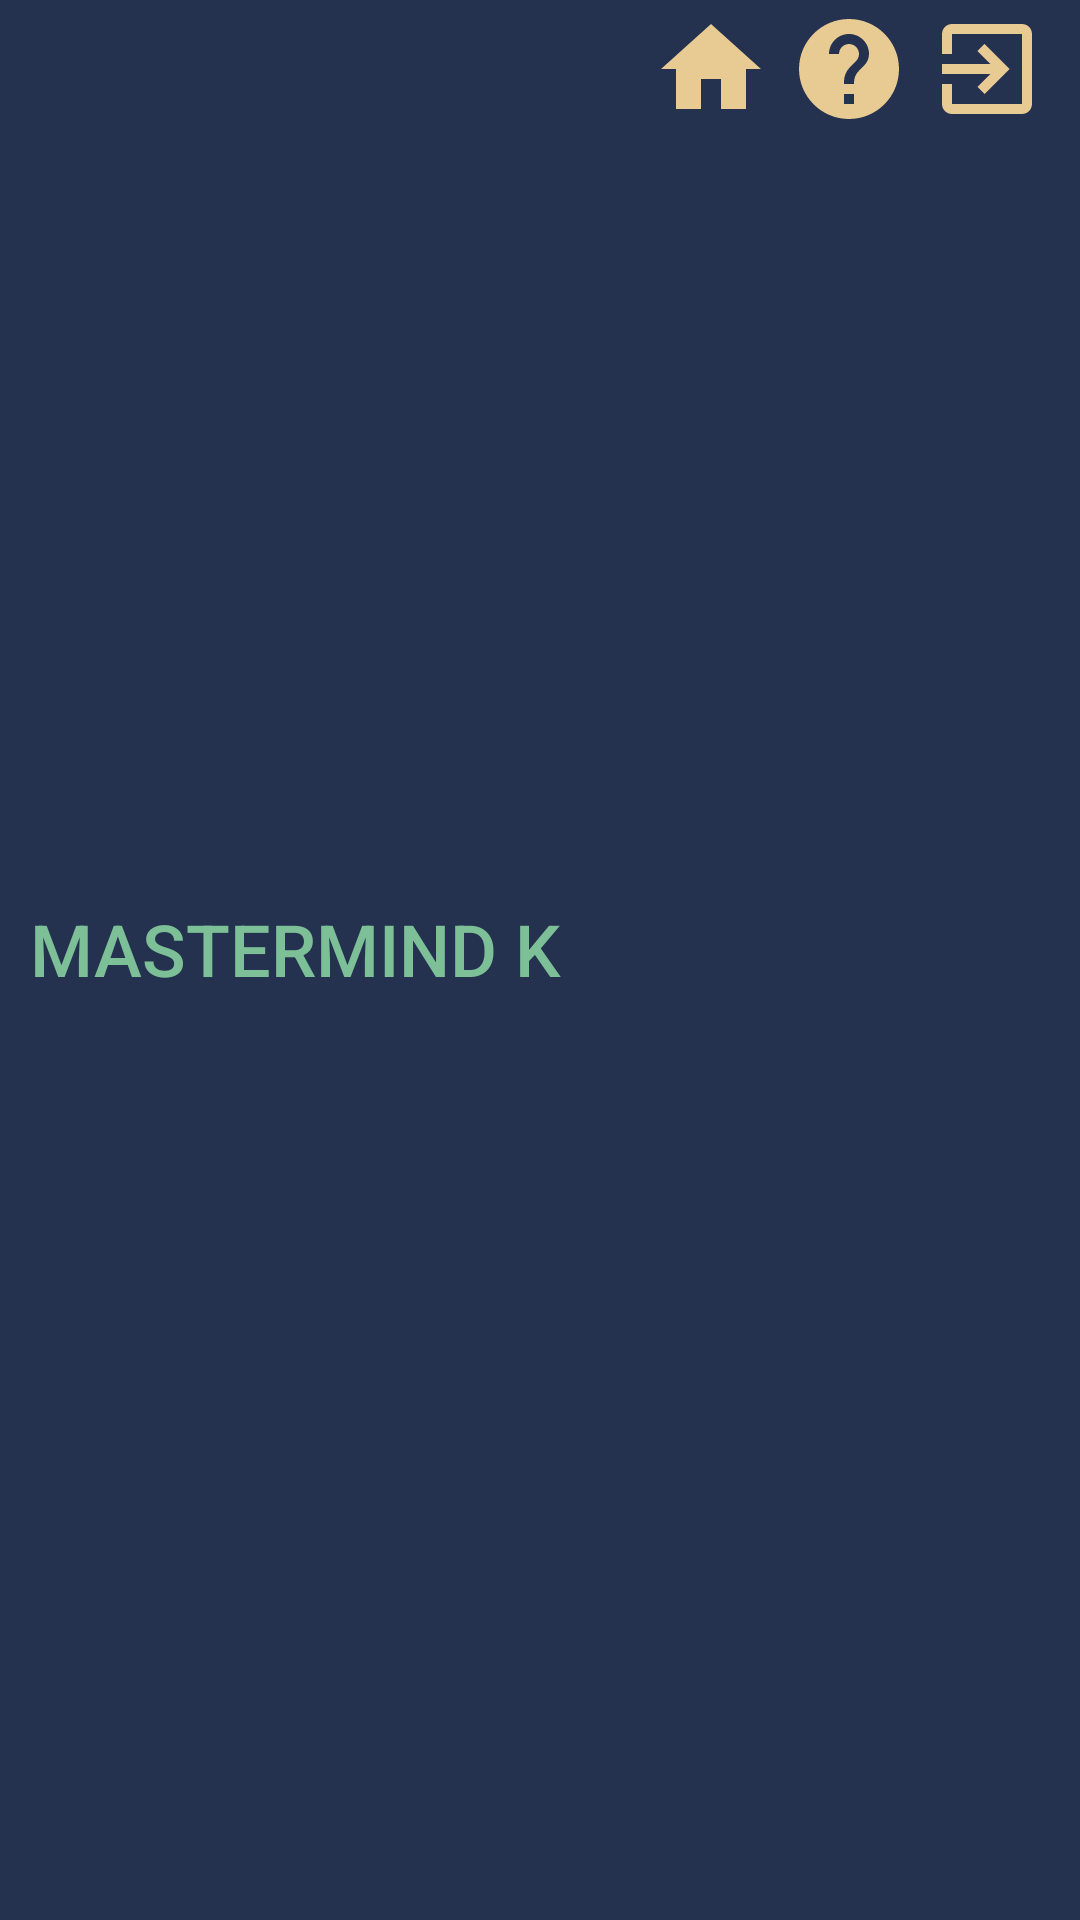

Point at icon controls on the screen. Image size 1080px×1920px, points as (x,y).
giveup: (987,69)
help: (849,69)
home: (711,66)
